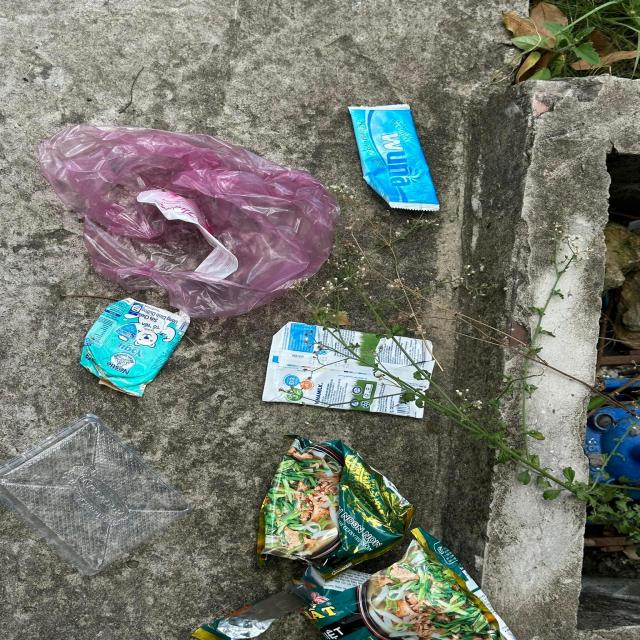bag: (42, 126, 334, 312)
milk box: (82, 299, 191, 398)
packet: (264, 322, 435, 417), (346, 104, 441, 212)
snack package: (193, 527, 509, 640), (260, 436, 420, 576)
